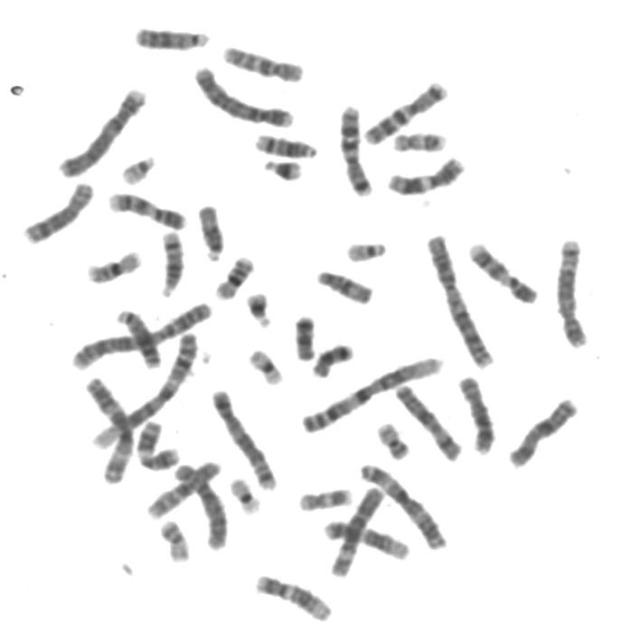A1: (85, 324, 202, 451), (296, 350, 448, 436)
A2: (67, 294, 217, 371), (421, 228, 498, 370)
A3: (355, 456, 451, 551), (80, 370, 138, 486)
B4: (53, 80, 151, 179), (188, 59, 298, 129)
B5: (207, 382, 282, 492), (551, 230, 594, 350)
C10: (143, 454, 225, 520), (218, 38, 308, 83)
C11: (382, 149, 470, 197), (132, 413, 184, 472)
C12: (250, 567, 338, 624), (319, 512, 413, 562)
C6: (324, 480, 388, 579), (169, 455, 232, 552)
C7: (359, 74, 452, 146), (335, 98, 376, 198)
C8: (18, 174, 98, 246), (454, 369, 501, 456)
C9: (464, 235, 542, 305), (104, 184, 191, 232)
D13: (111, 302, 166, 370), (130, 19, 214, 52)
D14: (155, 224, 189, 298), (250, 126, 322, 160)
D15: (312, 263, 378, 306), (193, 198, 229, 262)
E16: (82, 243, 146, 285), (210, 249, 258, 301)
E17: (295, 482, 356, 512), (388, 125, 450, 153)
E18: (307, 336, 358, 380), (289, 308, 321, 362)
F19: (244, 342, 288, 386), (226, 471, 265, 516)
F20: (156, 513, 194, 564), (372, 416, 414, 462)
G21: (241, 284, 277, 328), (258, 152, 308, 182)
G22: (117, 148, 160, 186), (342, 234, 391, 264)
X: (391, 378, 466, 463), (504, 391, 582, 469)
